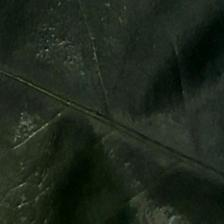healthy: (8, 10, 224, 224)
